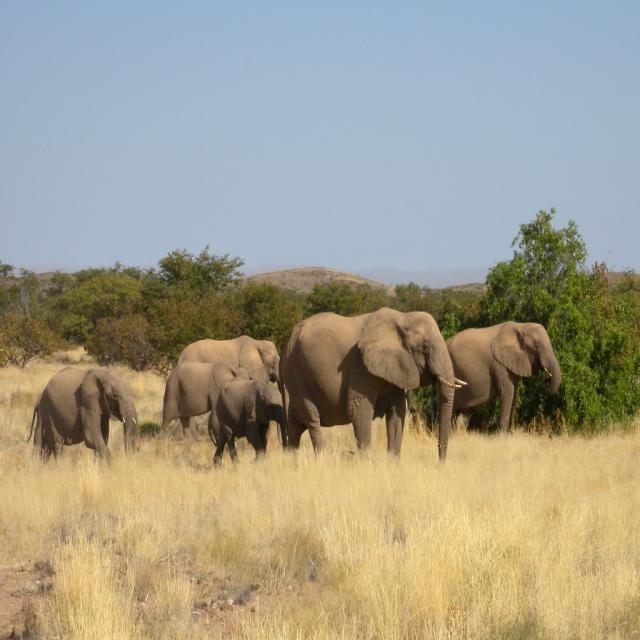elephant: (281, 305, 470, 476), (426, 327, 562, 442), (20, 363, 142, 475), (158, 364, 252, 448), (209, 381, 290, 467), (177, 336, 281, 386)
